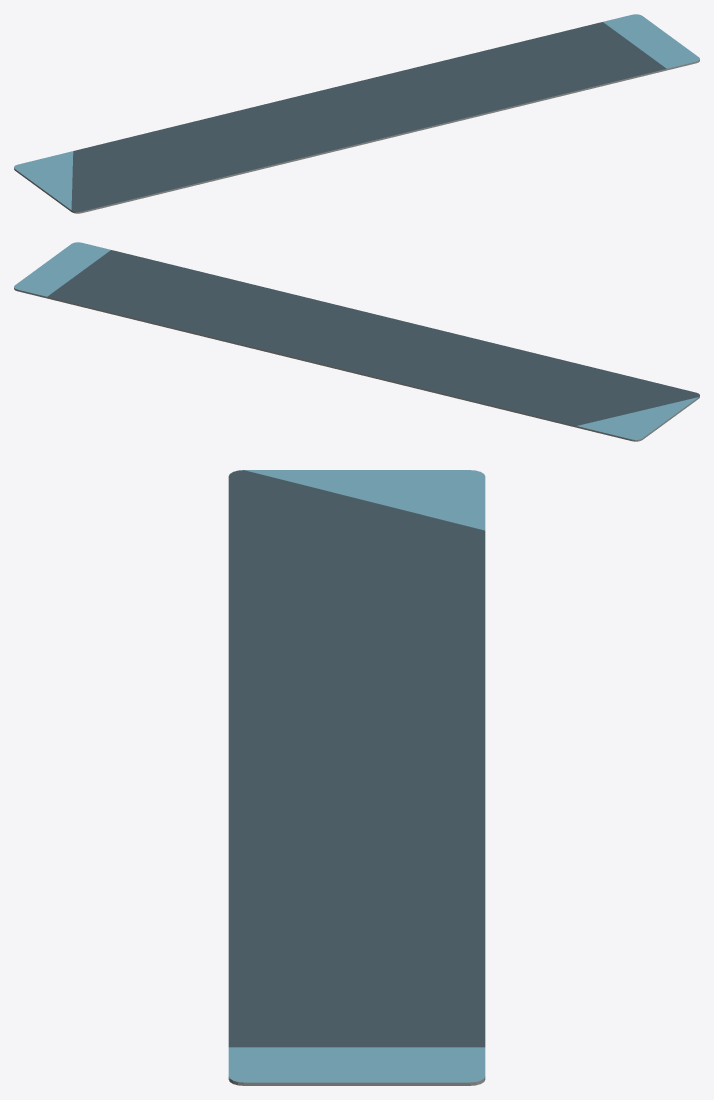
The picture shows the model from 3 angles, top to bottom: view 1: azimuth 30°, elevation 25°; view 2: azimuth 150°, elevation 25°; view 3: azimuth 270°, elevation 25°; orthographic projection. The views are drawn at different scales.
Visible parts, largest first — view 1: world; view 2: world; view 3: world.
Boxes of the visible parts, <box> form: world: <box>14,14,699,213</box>; world: <box>14,242,699,441</box>; world: <box>228,470,485,1085</box>.
Bounding box in the file's own units: 0.0384 × 0.0001 × 0.0068.
